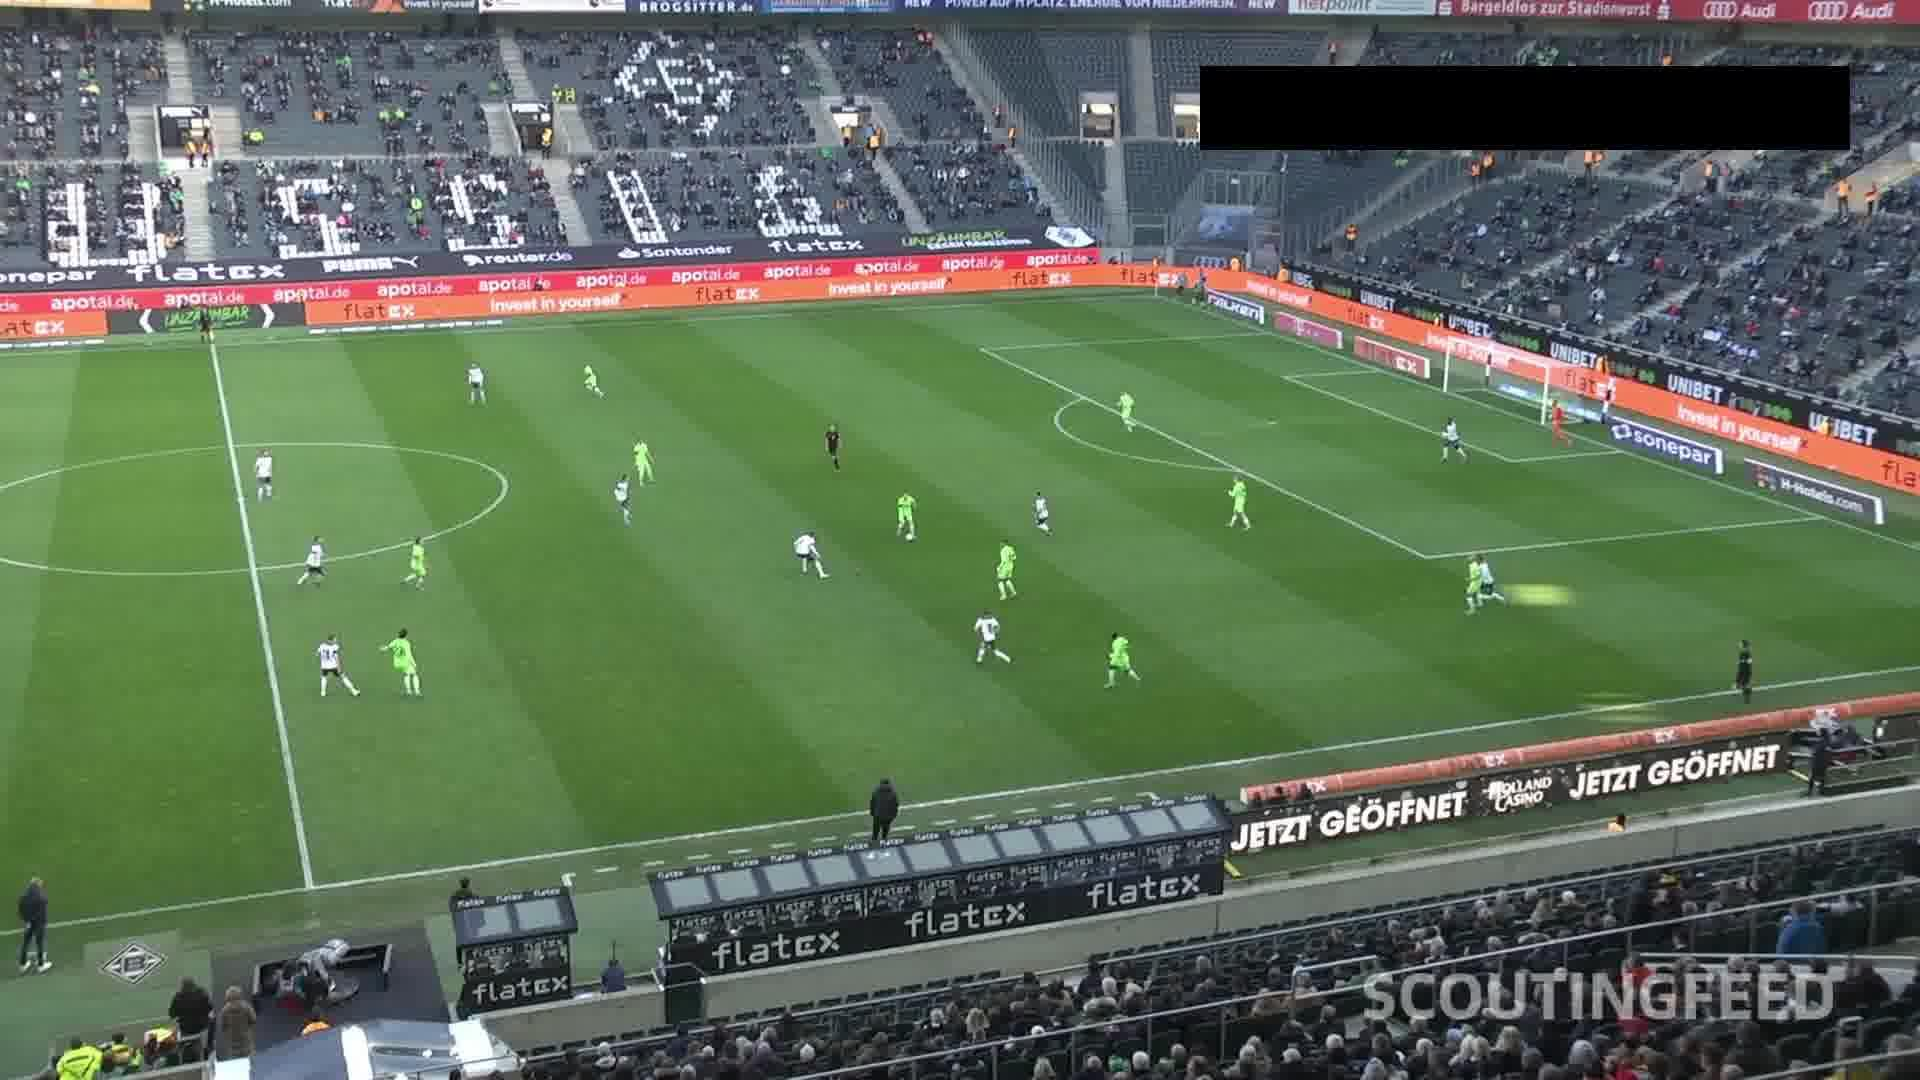football: (905, 533, 913, 542)
